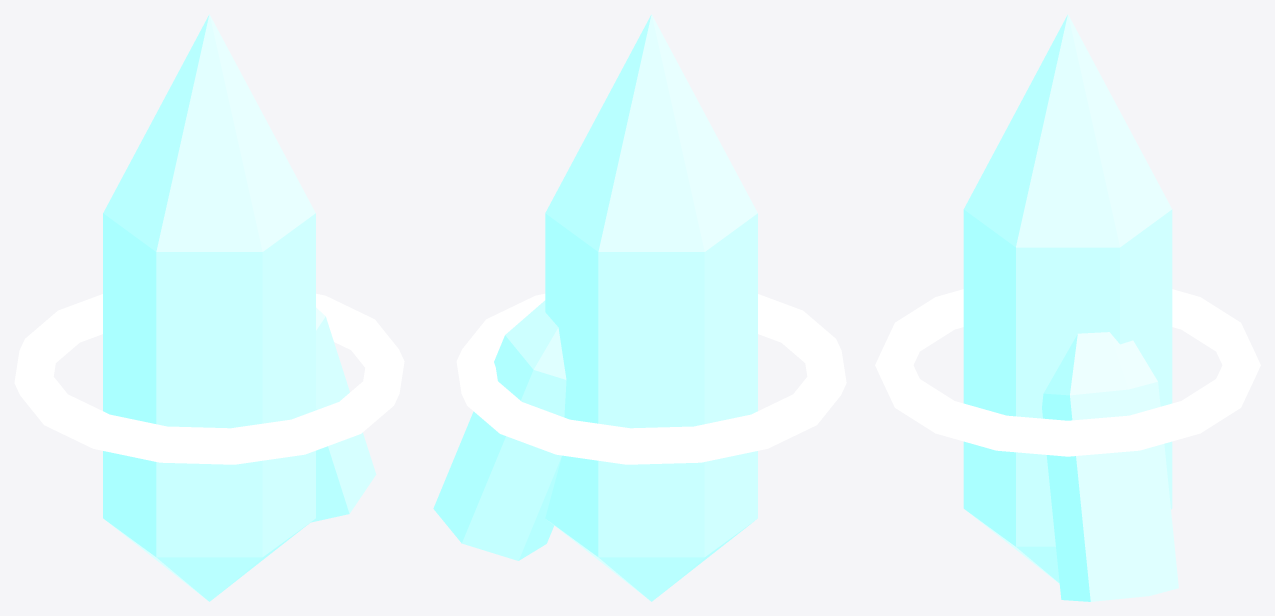
File: crystal3.glb
3 renders of one model, left to right at view 1: azimuth 30°, elevation 25°; view 2: azimuth 150°, elevation 25°; view 3: azimuth 270°, elevation 25°, orthographic.
Visible parts, largest first — view 1: JewelShaft; view 2: JewelShaft; view 3: JewelShaft.
Boxes of the visible parts, left/top/right/bottom form: JewelShaft: left=14, top=14, right=404, bottom=601; JewelShaft: left=433, top=14, right=846, bottom=601; JewelShaft: left=875, top=14, right=1260, bottom=601.
Bounding box in the file's own units: 1.14 × 1.83 × 1.11.
